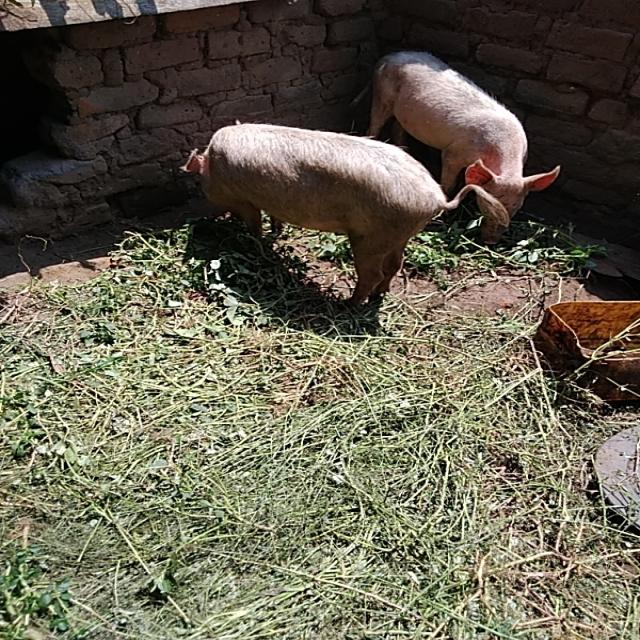pig: (338, 30, 601, 259)
